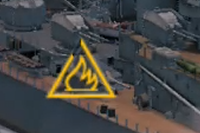1fire: (43, 65, 118, 102)
